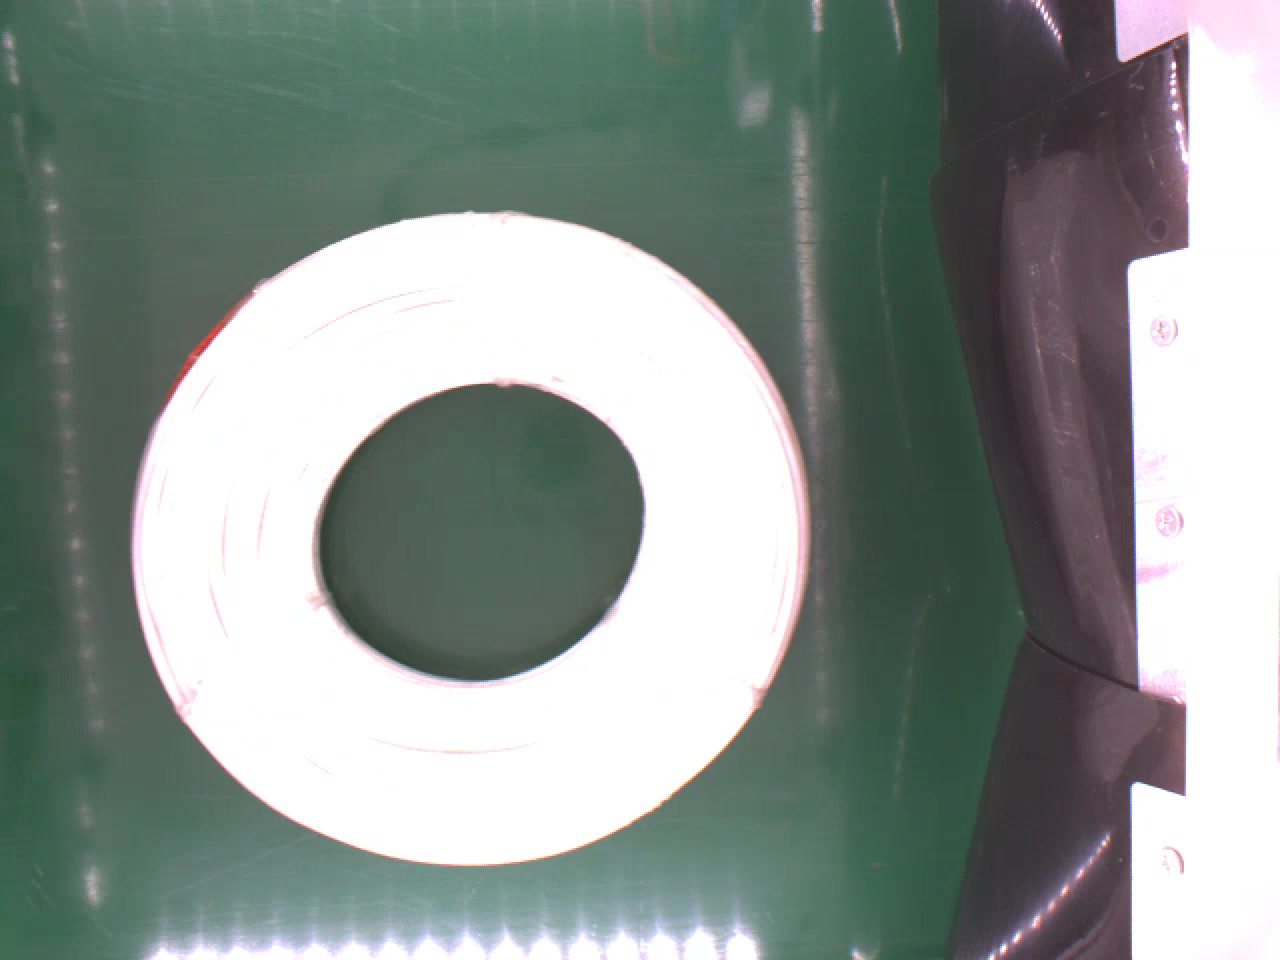white: (124, 204, 827, 867)
